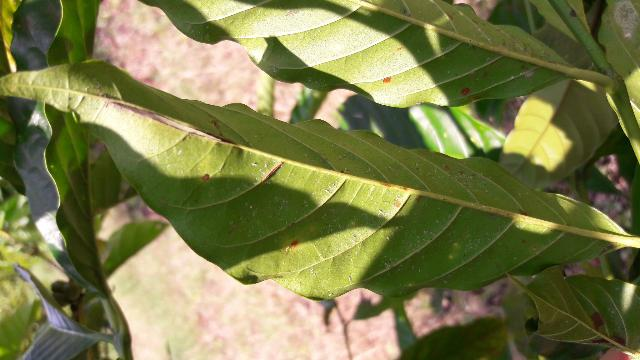rust_level_1: (0, 59, 628, 303)
